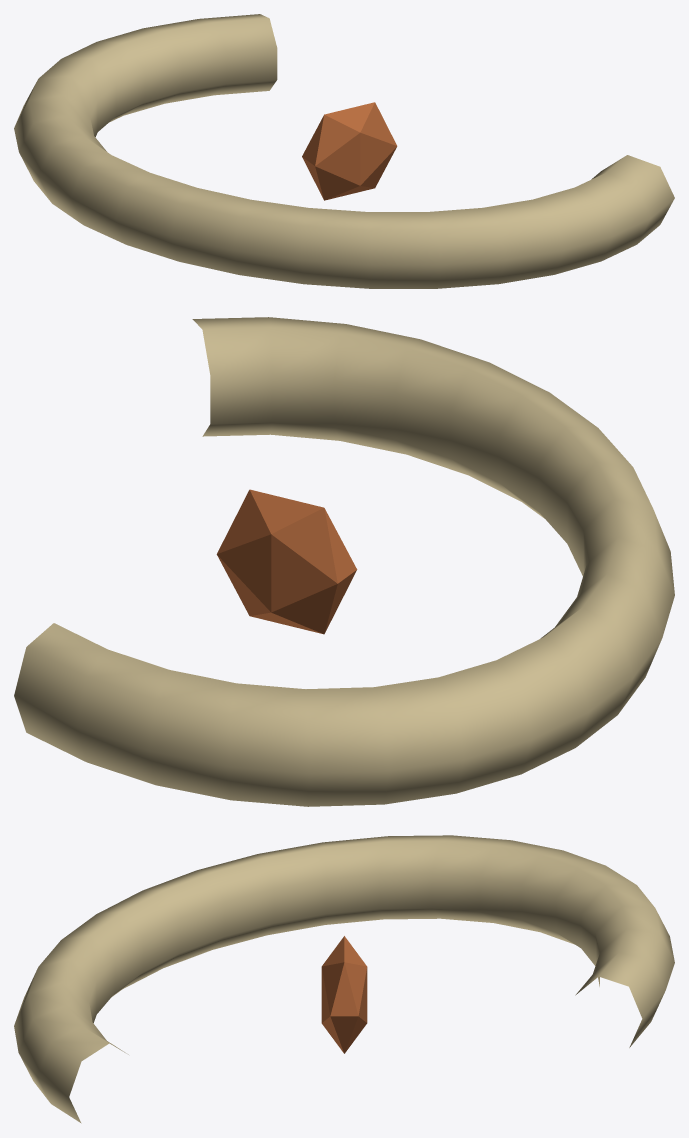
Rendered from wpn_m_06.glb.
3 views of the same model, one above another, from view 1: azimuth 30°, elevation 25°; view 2: azimuth 150°, elevation 25°; view 3: azimuth 270°, elevation 25° (orthographic). The views are drawn at different scales.
Parts seen in each view (by area): view 1: attack_arc, attack_core; view 2: attack_arc, attack_core; view 3: attack_arc, attack_core.
Part boxes in pixels (x1,y1,x2,y2): attack_arc: [14, 14, 674, 288]; attack_core: [302, 102, 397, 200]; attack_arc: [14, 317, 674, 806]; attack_core: [216, 489, 357, 634]; attack_arc: [14, 835, 674, 1123]; attack_core: [321, 936, 367, 1053].
Bounding box in the file's own units: 0.9587 × 0.1735 × 1.13.
